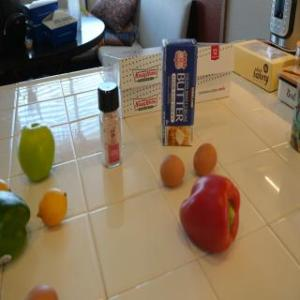bell_pepper: (173, 178, 240, 258), (0, 192, 32, 268)
egg: (160, 152, 186, 188), (194, 142, 218, 174)
onion: (34, 188, 72, 228)
